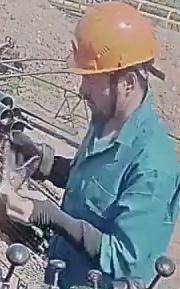gloves: (9, 131, 57, 179)
helmet: (65, 1, 162, 83)
vest: (56, 92, 179, 288)
